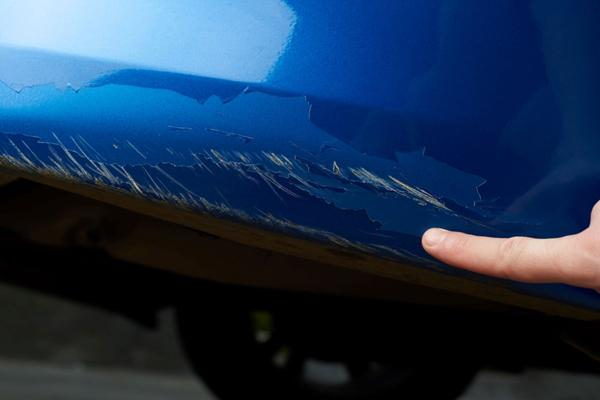scratch: (0, 70, 534, 273)
